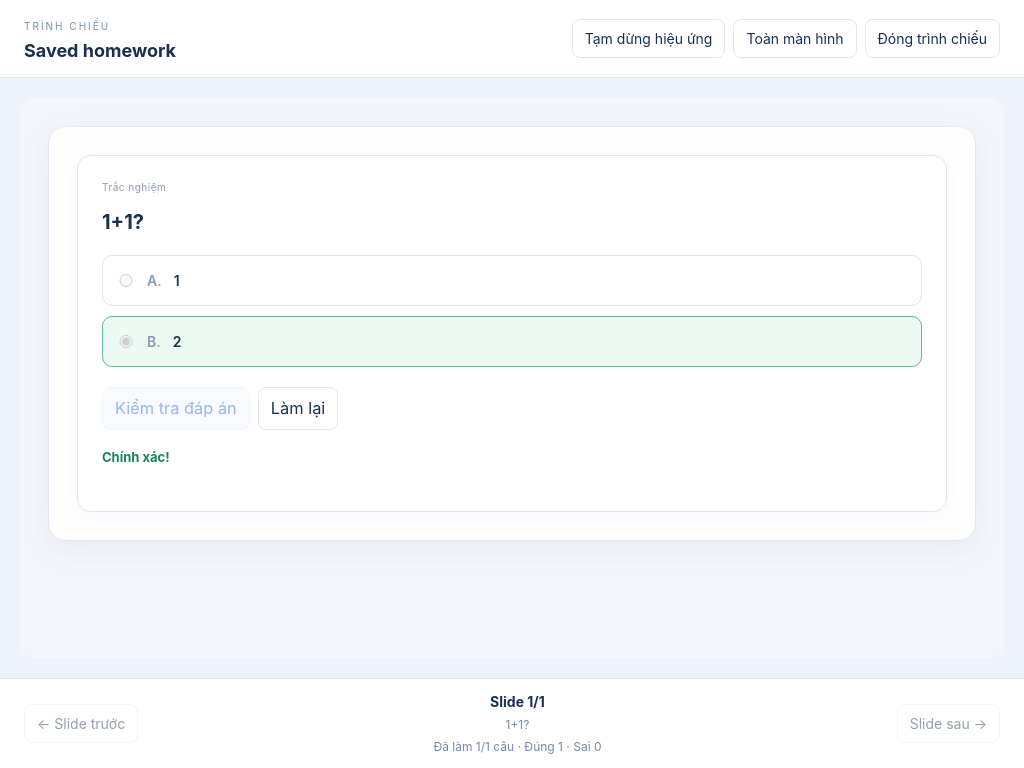
Test case: reopens saved quiz choices through the real presentation without posting an answer, and allows an explicit redo
Check: the radio button labelled "B. 2" is checked, box [117,335,135,348]
Check: the button "Kiểm tra đáp án" is disabled, box [102,387,250,430]
Click the button "Làm lại" at (298, 408), box [258,387,338,430]
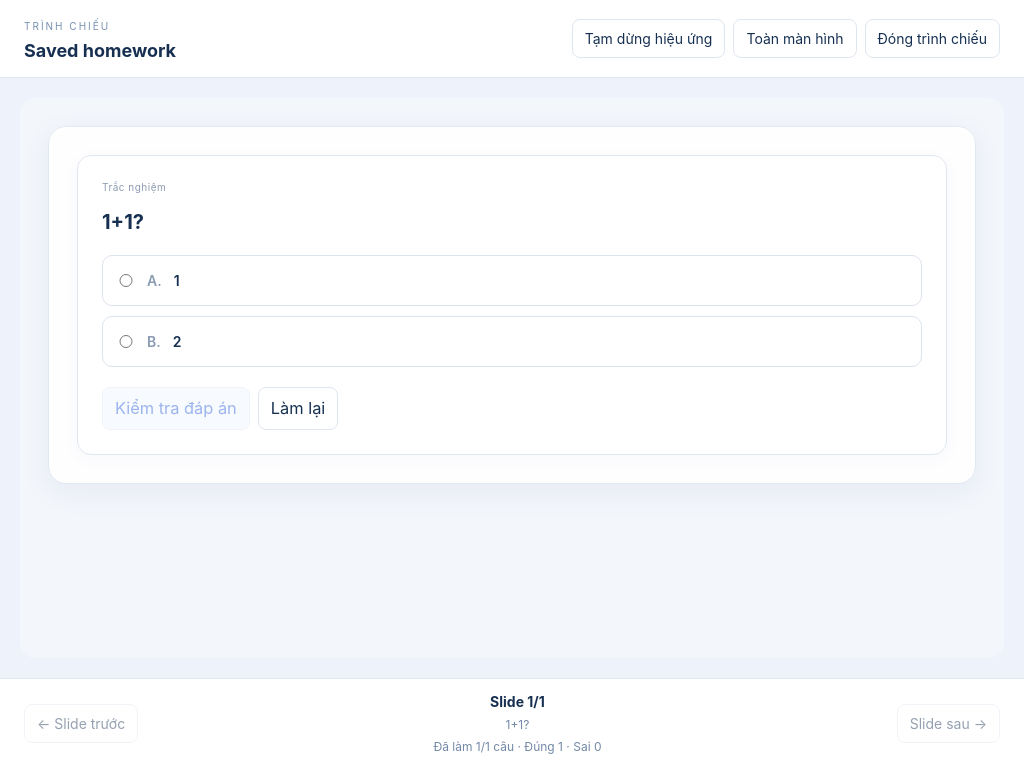
Check: the radio button labelled "B. 2" is not checked, box [117,335,135,348]
